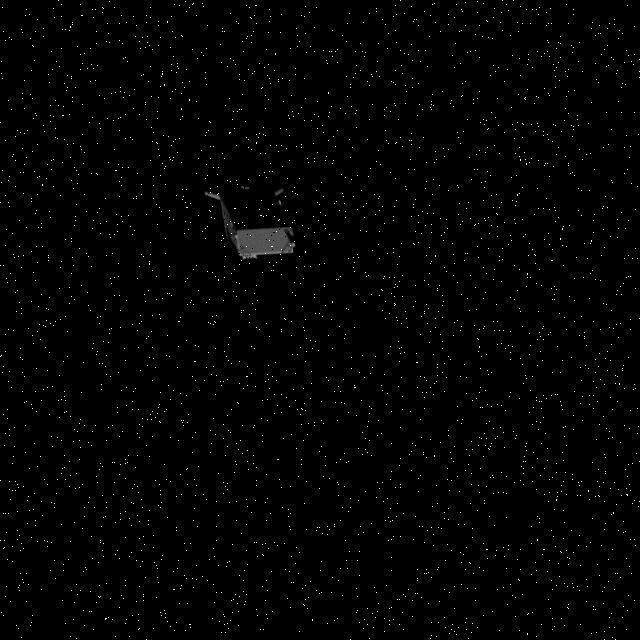satellite: (206, 166, 306, 264)
